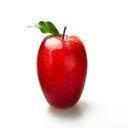apple: (26, 20, 88, 110)
